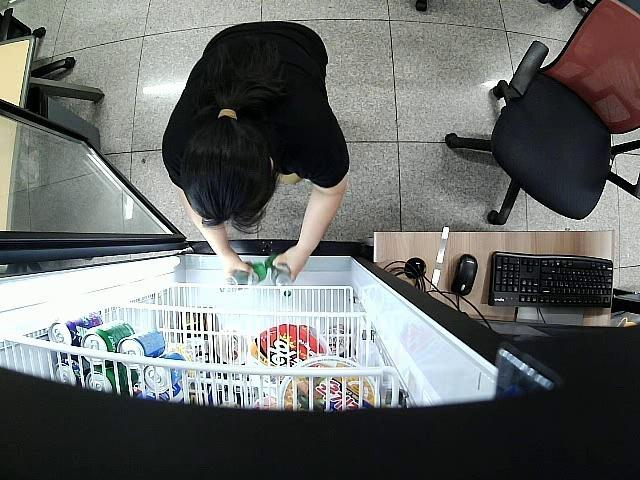18_trevi: (218, 262, 268, 293), (264, 256, 292, 300)
